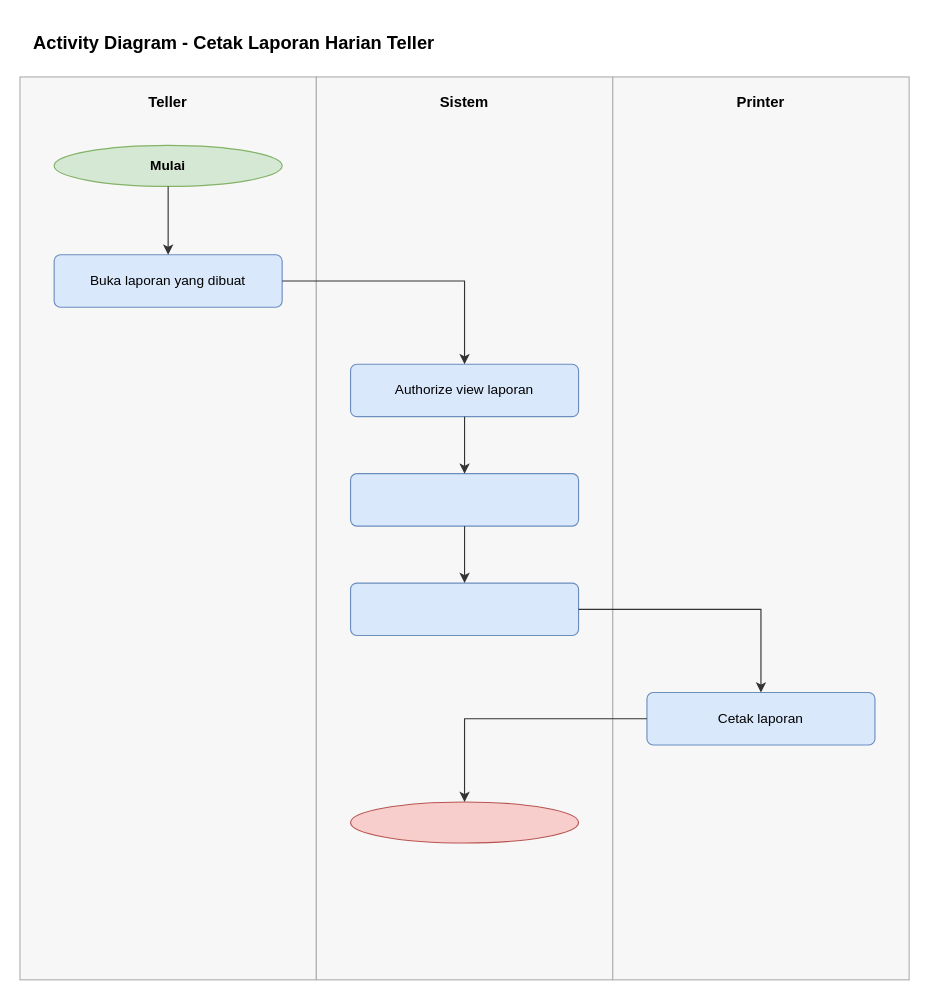
The diagram is 929 pixels wide and 1000 high, and some of its shapes have lost their labels. The centre of each missing label's shape, as x and y in pixels:
"Muat data teller, approver, rincian pecahan" goes at [464,499].
"Render Laporan Harian Teller" goes at [464,609].
"Selesai" goes at [464,822].
